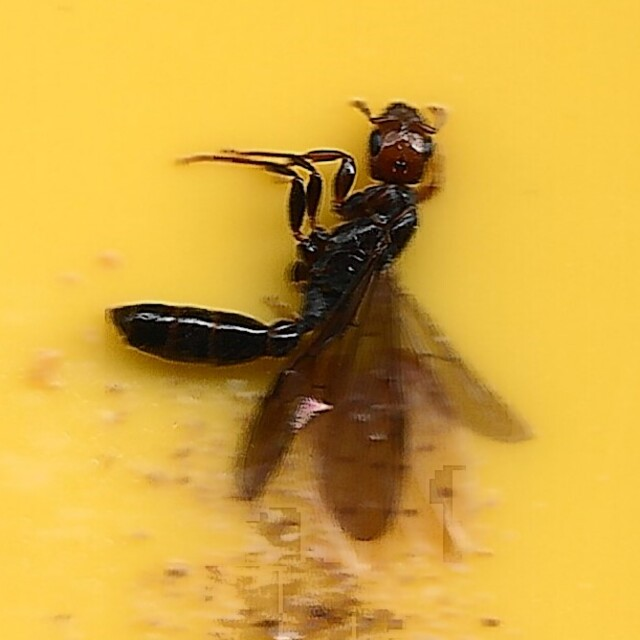Hymenoptera: (105, 96, 535, 544)
